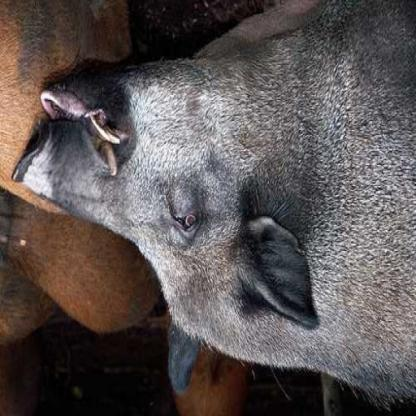boar: (27, 2, 415, 405)
